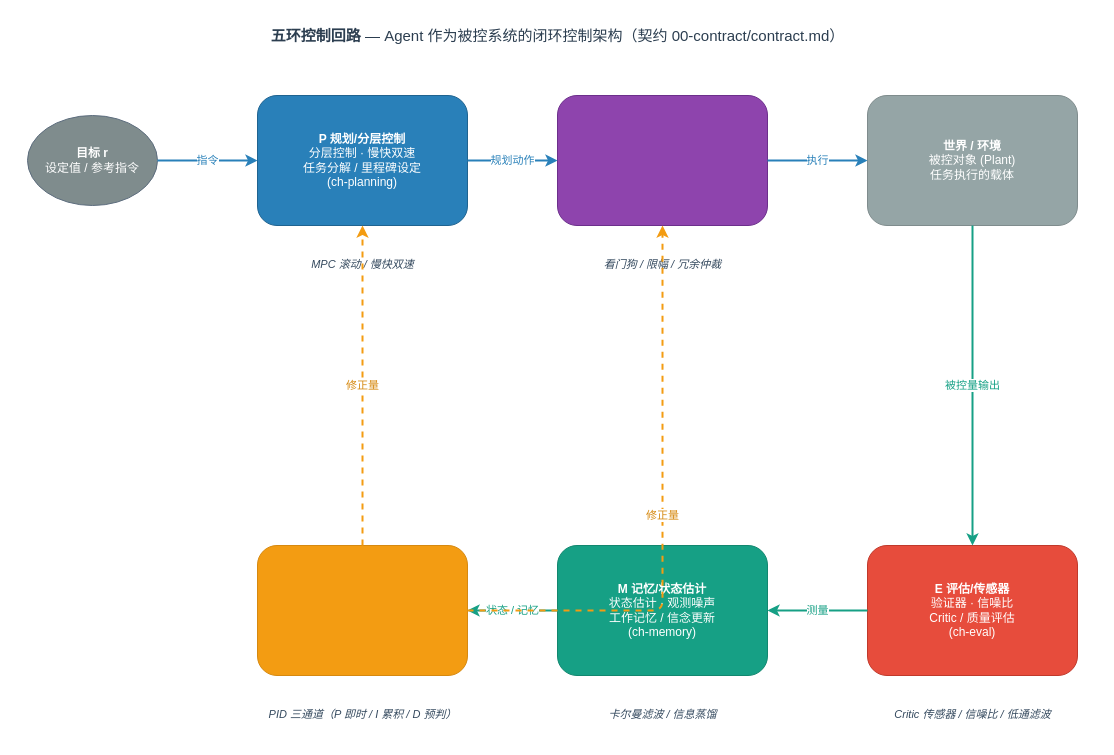
The diagram is 1114 pixels wide and 755 high, and some of its shapes have lost their labels. Here are the shapes that lost their labels. From the top down, the centre of each, then its label:
point 662,160: T 工具调用/执行器 容错 · 鲁棒性 调用失败 / 冗余仲裁 (ch-tool)
point 362,610: R 反思/反馈闭环 反馈闭环 · 误差收敛 自我反思 / 偏航补偿 (ch-reflection)
